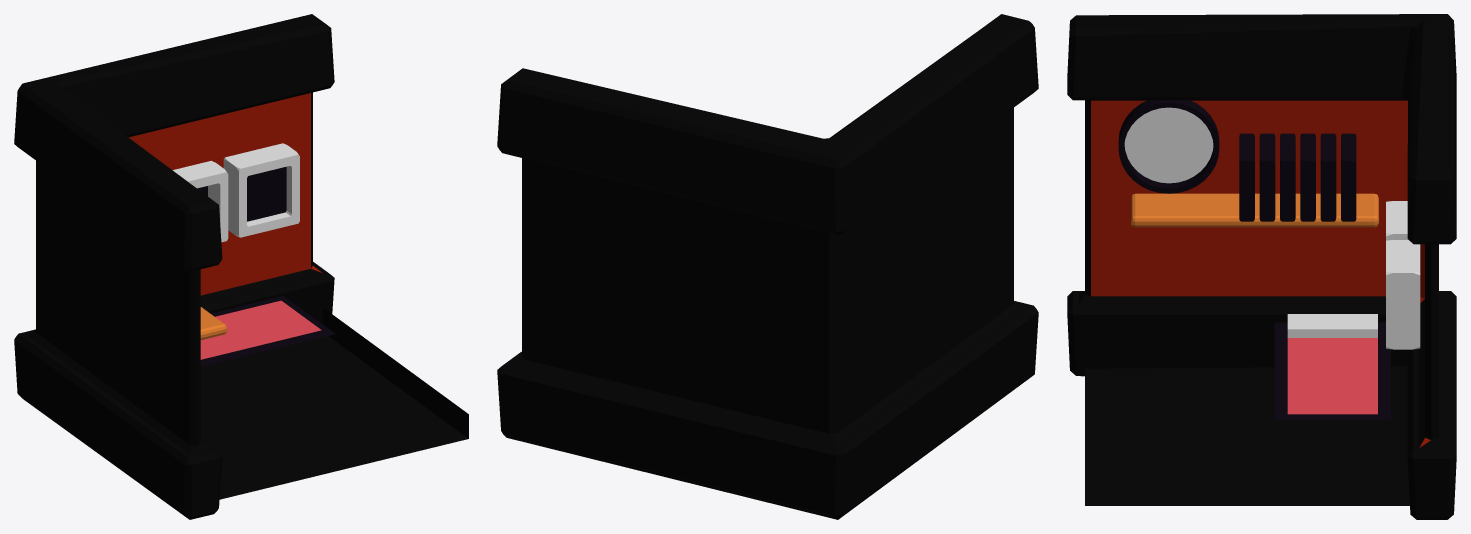
The model's file is lil_house.gltf.
3 renders of one model, left to right at view 1: azimuth 30°, elevation 25°; view 2: azimuth 150°, elevation 25°; view 3: azimuth 270°, elevation 25°, orthographic. The views are drawn at different scales.
Parts seen in each view (by area): view 1: Cube, Plane.001, Cube.001, Plane.004, Cube.006, Plane.002, Cube.002; view 2: Cube; view 3: Cube, Plane.001, Cube.003, Plane.004, Cube.002, Cylinder.001, Cube.001, Plane.002, Cylinder, Plane.003.
Part boxes in pixels (x1,y1,x2,y2): Cube: (14, 14, 334, 519); Plane.001: (200, 308, 468, 499); Cube.001: (172, 143, 299, 242); Plane.004: (200, 300, 321, 359); Cube.006: (247, 166, 286, 221); Plane.002: (200, 296, 335, 366); Cube.002: (200, 307, 226, 339); Cube: (497, 14, 1038, 519); Cube: (1067, 14, 1456, 519); Plane.001: (1085, 366, 1409, 505); Cube.003: (1239, 133, 1356, 221); Plane.004: (1287, 338, 1377, 414); Cube.002: (1131, 193, 1378, 227); Cylinder.001: (1124, 107, 1213, 183); Cube.001: (1386, 201, 1420, 349); Plane.002: (1274, 322, 1390, 420); Cylinder: (1118, 100, 1219, 193); Plane.003: (1287, 314, 1377, 337).
Bounding box in the file's own units: 2.2 × 2.24 × 2.2.
